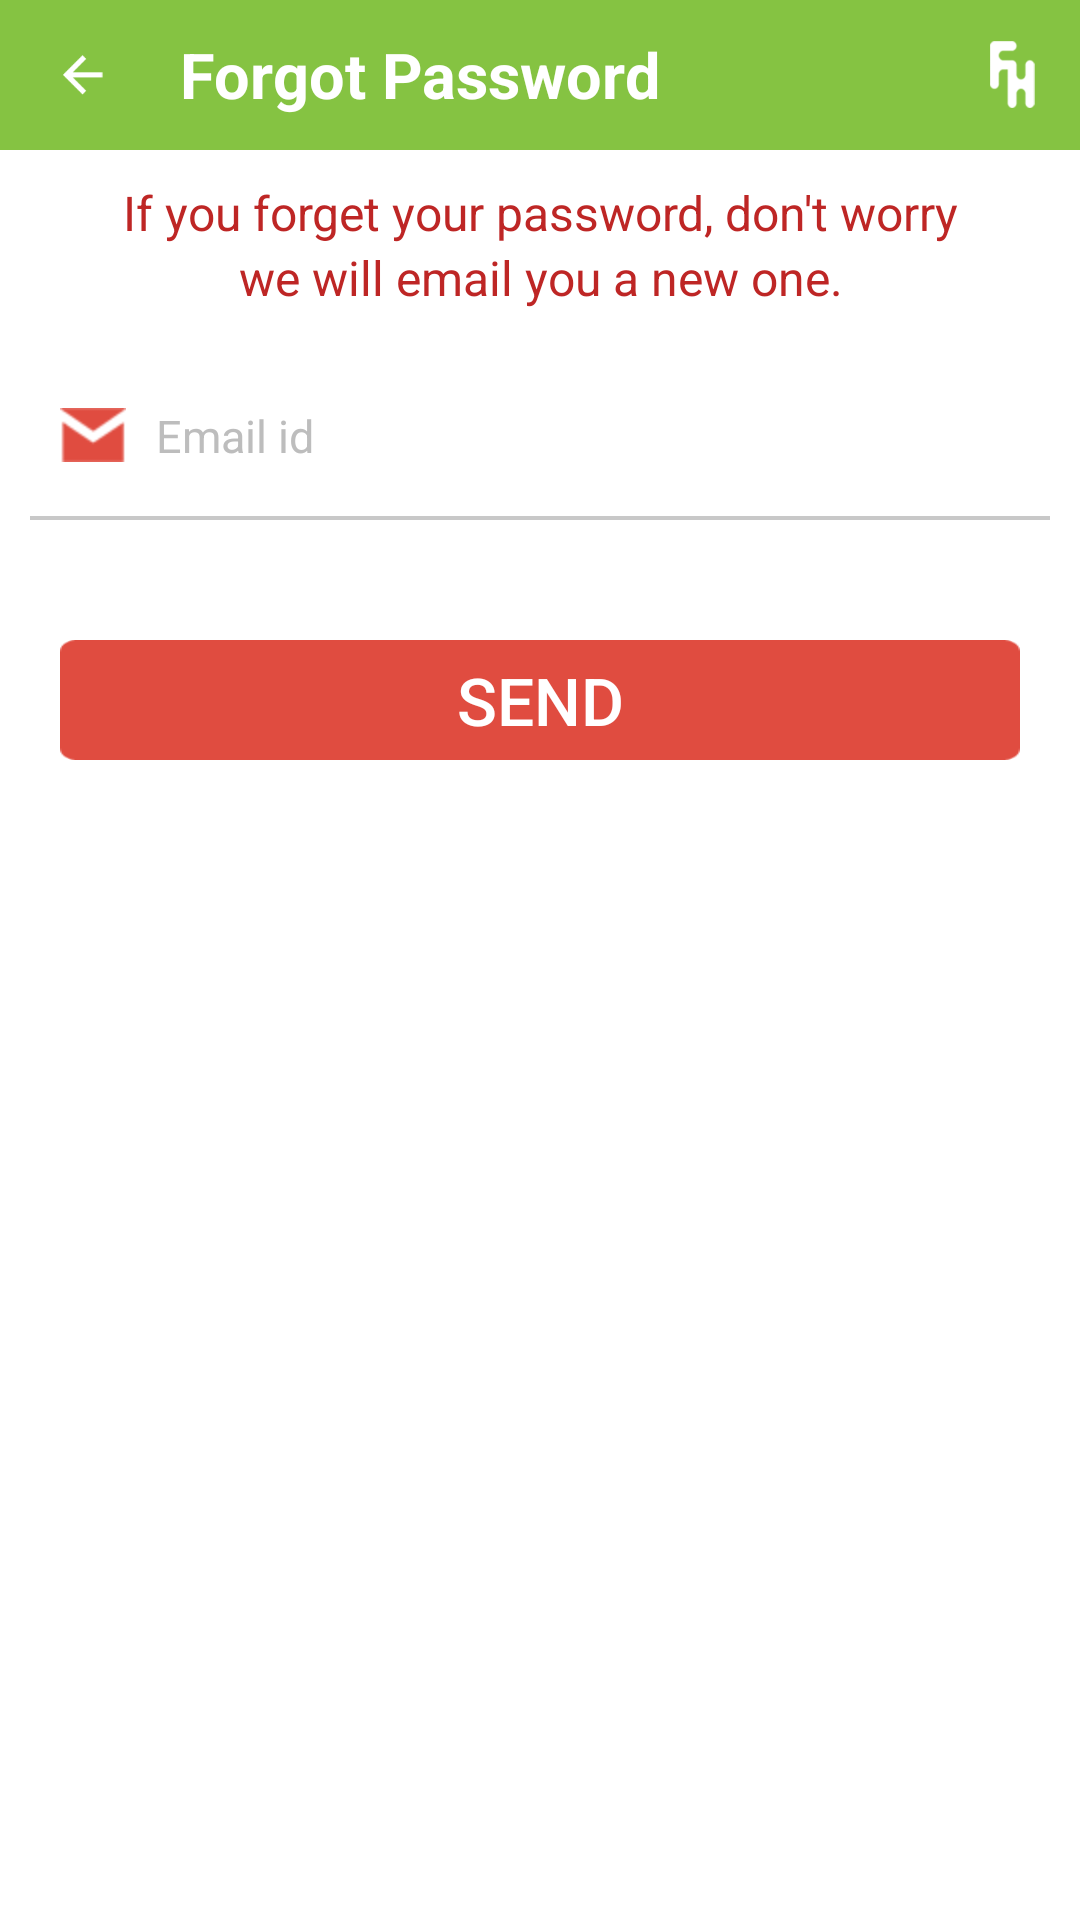

Icons on this 1080 x 1920 Android screen, each with the point to tap as (x,y):
back: (83,75)
